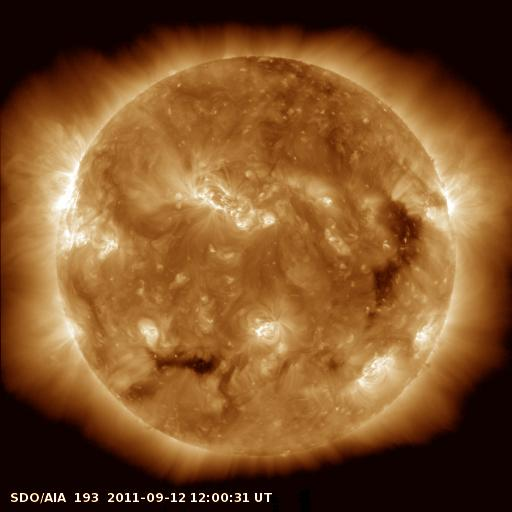coronal_hole: (370, 189, 427, 315), (147, 350, 224, 377)
